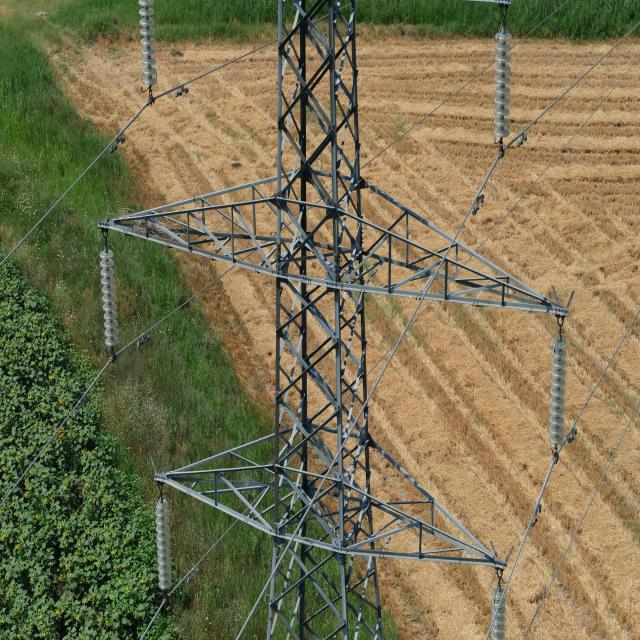direk: (263, 0, 387, 640)
